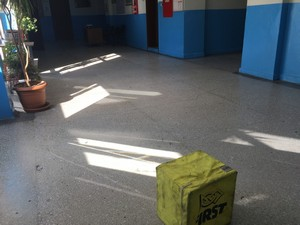cube: (157, 150, 235, 225)
